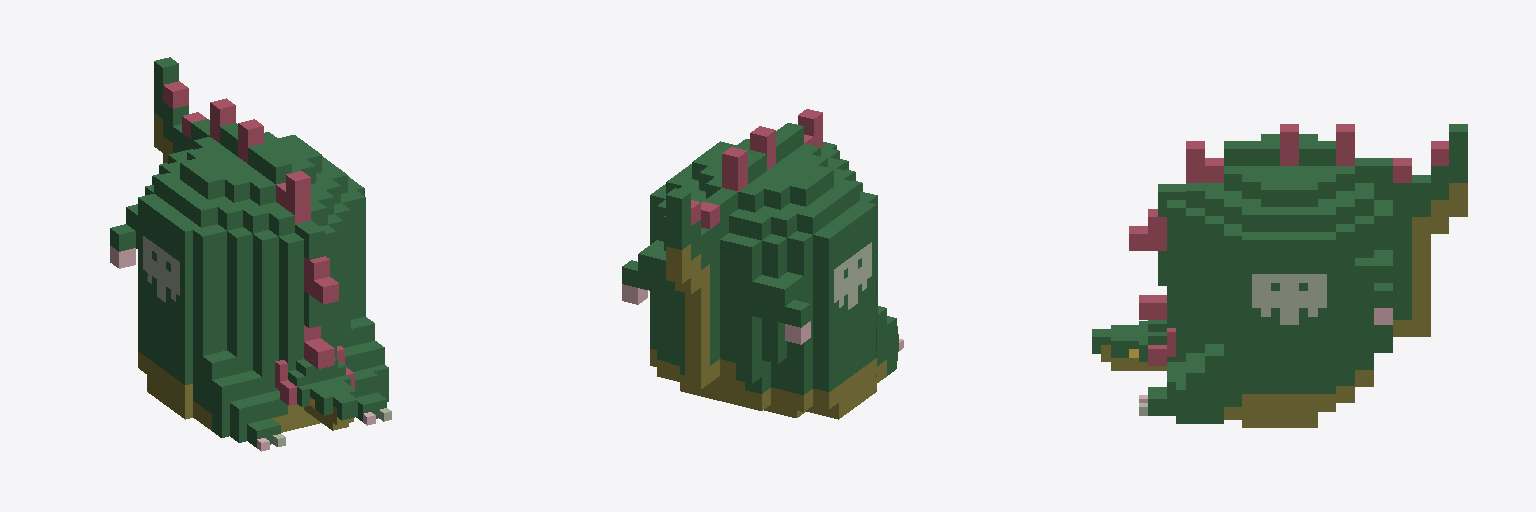
3 views of the same model, side by side, from view 1: azimuth 30°, elevation 25°; view 2: azimuth 150°, elevation 25°; view 3: azimuth 270°, elevation 25° (orthographic).
Visible parts, largest first — view 1: object 1; view 2: object 1; view 3: object 1.
Part boxes in pixels (bbox=[...]): object 1: bbox=[110, 57, 391, 451]; object 1: bbox=[622, 109, 903, 419]; object 1: bbox=[1092, 124, 1467, 427].
Size of the model in its own units: 2.2 by 3 by 4.
1 materials, 1 textured.